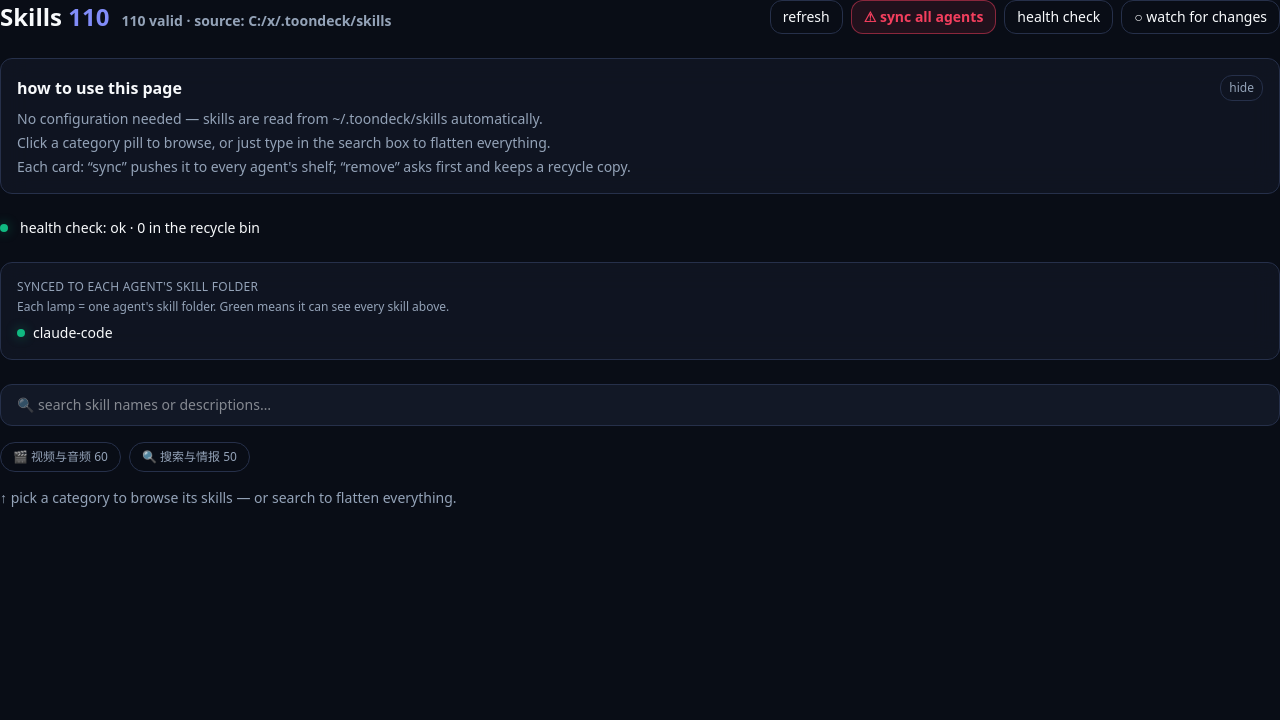
N: progressive card windows › each show-more click grows the window; button disappears when exhausted
What coordinates should you click on to do the following:
click the button with test id "category-pill-🎬 视频与音频"
I would click on:
 (60, 457)
Its box is [0,442,121,472].
(page scrolled)
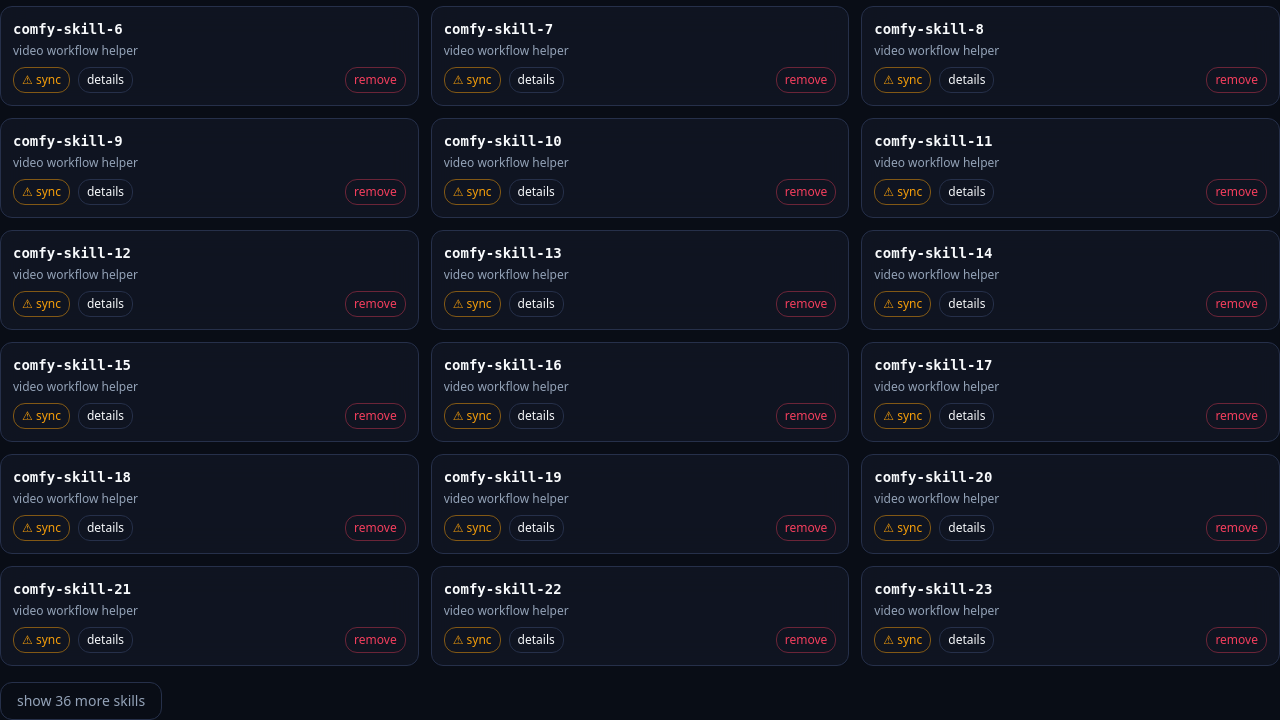
What coordinates should you click on to do the following:
click the button with test id "show-more-skills"
I would click on:
 (81, 701)
Its box is [0,682,162,719].
(page scrolled)
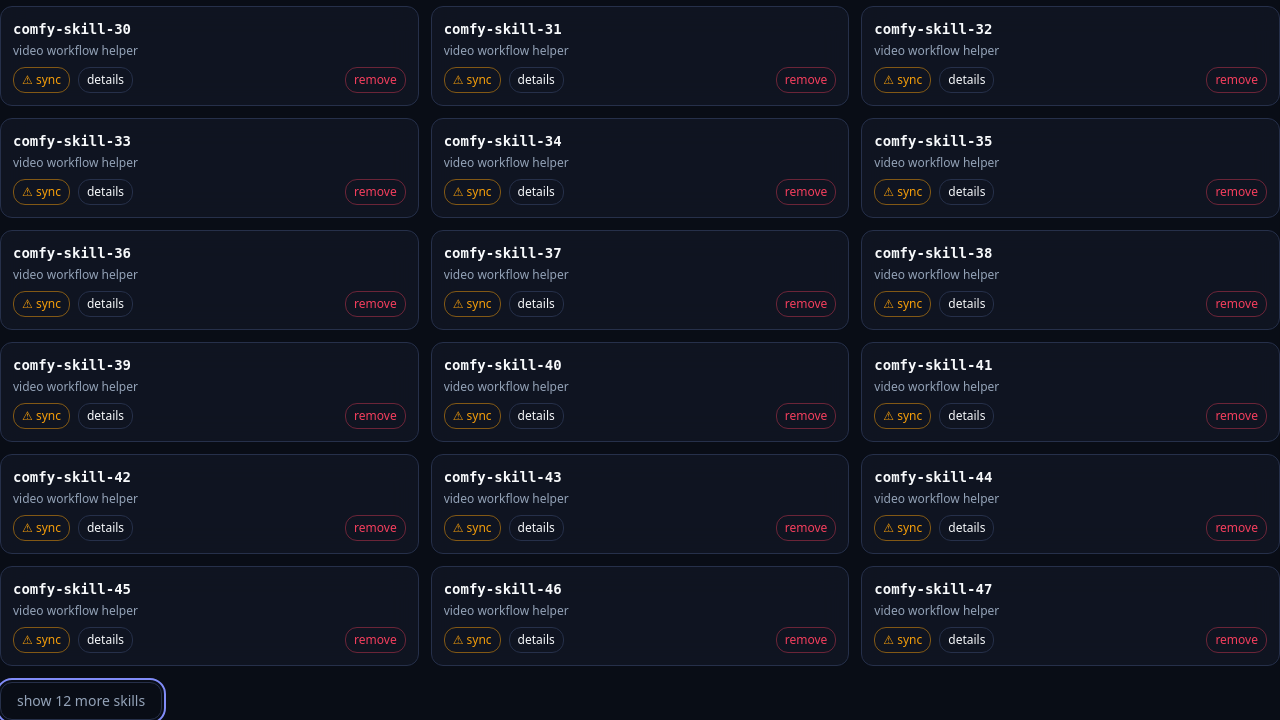
What coordinates should you click on to do the following:
click the button with test id "show-more-skills"
I would click on:
 (81, 701)
Its box is [0,682,162,719].
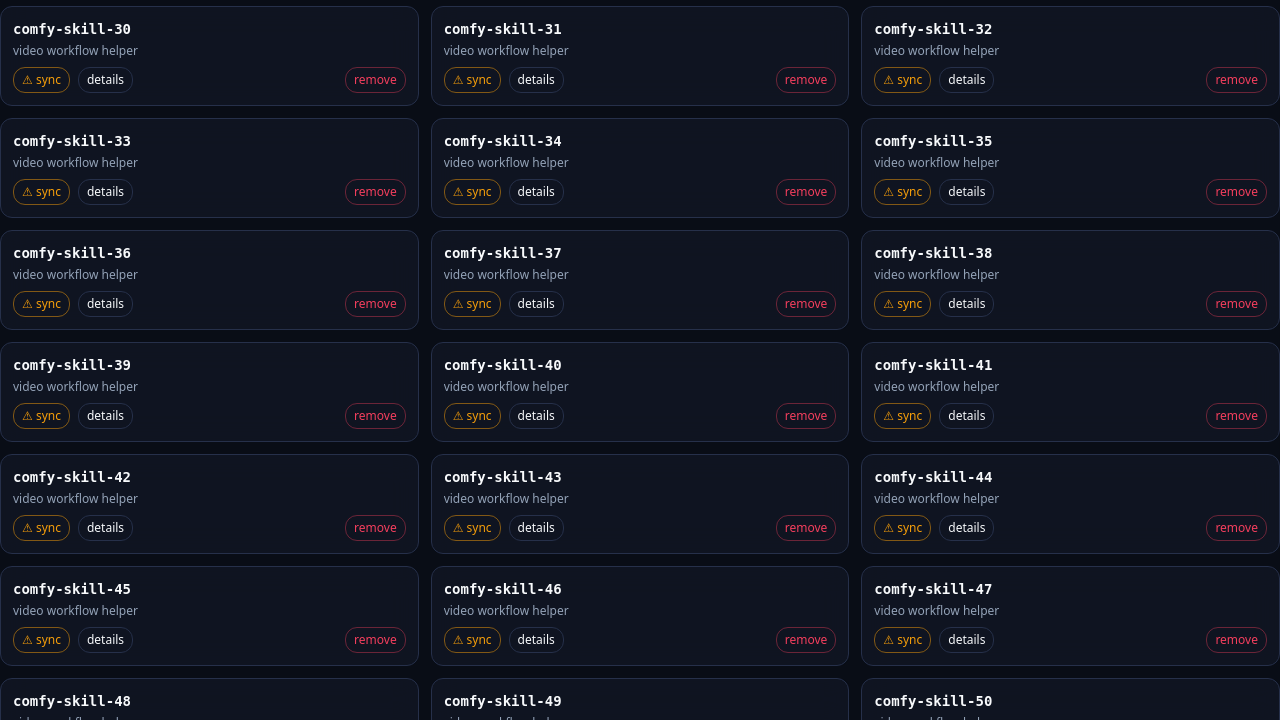
Expected: the button with test id "show-more-skills" is gone
